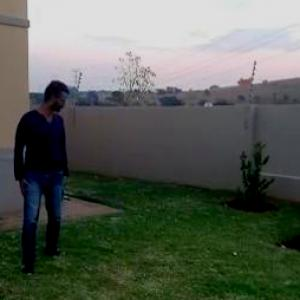follow: (7, 74, 74, 276)
